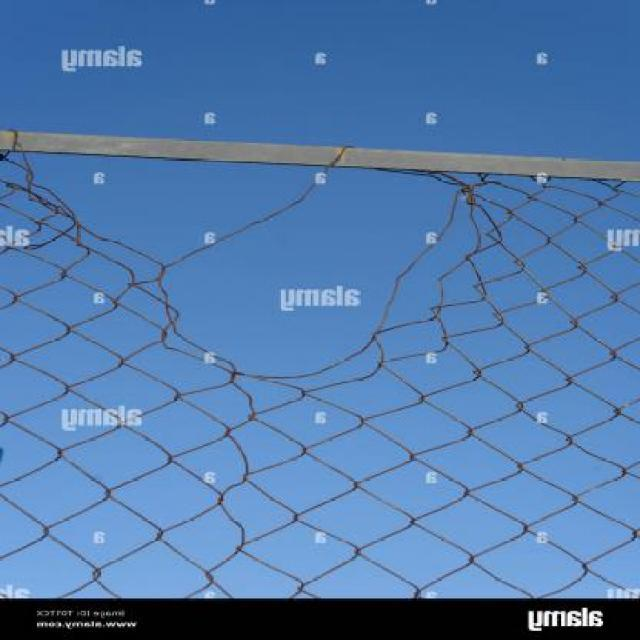fence line: (35, 150, 497, 376)
